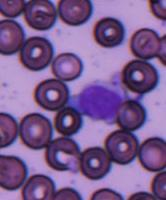L: (72, 78, 126, 122)
